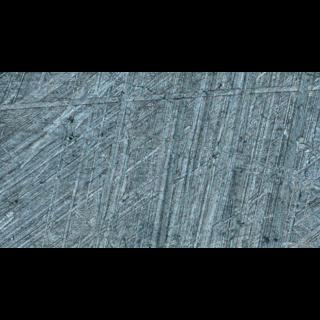d: (0, 109, 319, 201), (88, 71, 162, 247), (0, 76, 320, 114)
